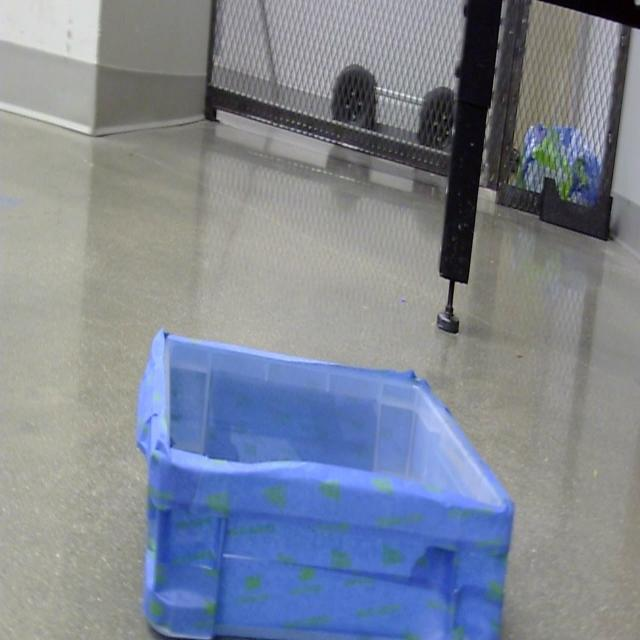bucket: (135, 330, 516, 640)
